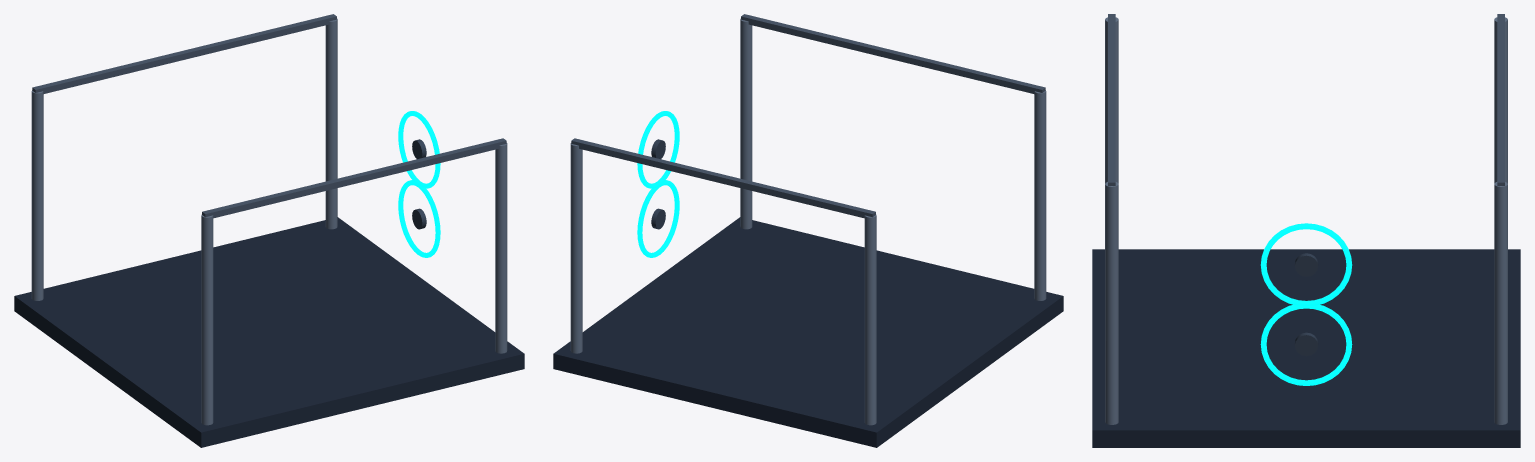
The model's file is computer.glb.
3 renders of one model, left to right at view 1: azimuth 30°, elevation 25°; view 2: azimuth 150°, elevation 25°; view 3: azimuth 270°, elevation 25°, orthographic. The views are drawn at different scales.
Parts seen in each view (by area): view 1: ComputerChassis; view 2: ComputerChassis; view 3: ComputerChassis.
Part boxes in pixels (bbox=[...]): ComputerChassis: bbox=[14, 14, 524, 447]; ComputerChassis: bbox=[553, 14, 1063, 447]; ComputerChassis: bbox=[1092, 14, 1520, 447].
Size of the model in its own units: 2.2 by 1.47 by 2.2.
